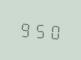five: (33, 19, 46, 40)
nine: (18, 18, 31, 39)
zero: (47, 20, 60, 41)
